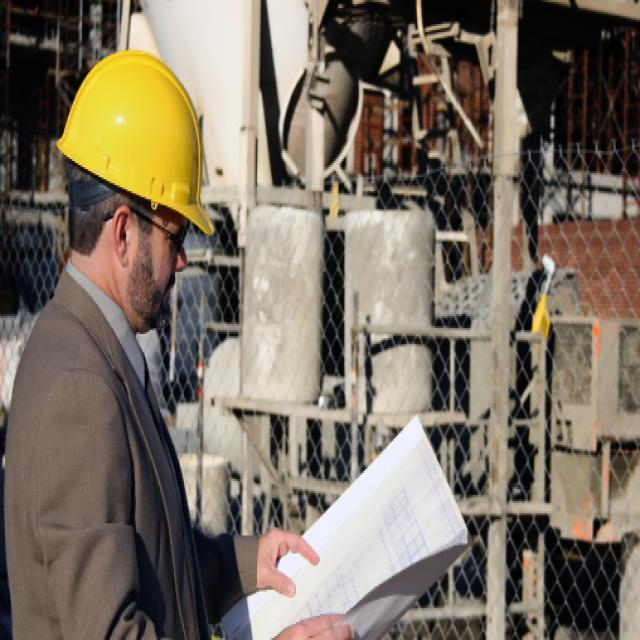hard_hat: (52, 42, 217, 340)
